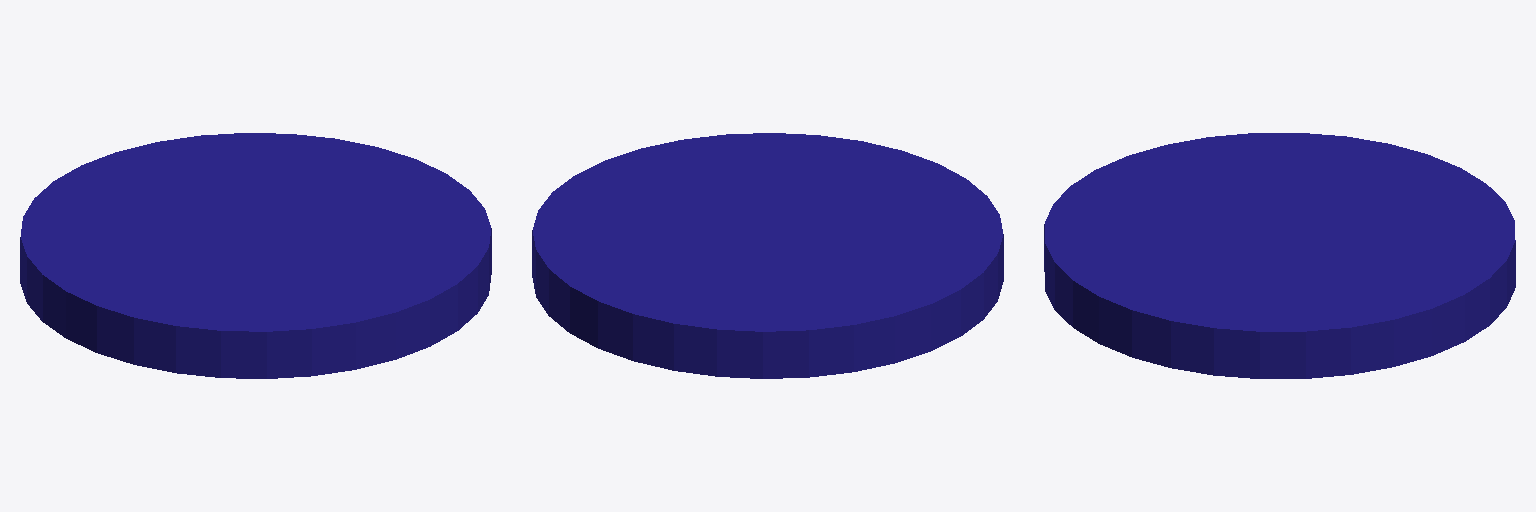
The robot description file, URDF, robot "Interference":
<?xml version="1.0"?>
<robot name="Interference">
  <link name="baseLink">
    <inertial>
      <origin xyz="0.0 0.0 0.0" rpy="0.0 0.0 0.0"/>
      <inertia ixx="0.0" ixy="0.0" ixz="0.0" iyy="0.0" iyz="0.0" izz="0.0"/>
      <mass value="0"/>
    </inertial>
    <visual>
      <origin xyz="0.0 0.0 0.0" rpy="0.0 0.0 -1.4599345859622694"/>
      <geometry>
        <cylinder radius="0.045186877869297086" length="0.01"/>
      </geometry>
      <material name="color">
        <color rgba="0.200283985389903 0.17474483169344357 0.6023135047385851 1.0"/>
      </material>
    </visual>
  </link>
</robot>

--- Render facts (derived) ---
Views: 3 orthographic renders of the robot side by side, from view 1: azimuth 30°, elevation 25°; view 2: azimuth 150°, elevation 25°; view 3: azimuth 270°, elevation 25°.
Model Interference with 1 links and 0 joints (none), rooted at baseLink, posed all joints at 0.
Visible links, largest first — view 1: baseLink; view 2: baseLink; view 3: baseLink.
Boxes of the visible links, x1,y1,x2,y2 form: baseLink: [20, 133, 491, 378]; baseLink: [532, 133, 1003, 378]; baseLink: [1044, 133, 1515, 378].
Bounding box of the posed robot: 0.09 × 0.09 × 0.01 m (x, y, z).
Geometry: primitives only (box / cylinder / sphere), no mesh files.